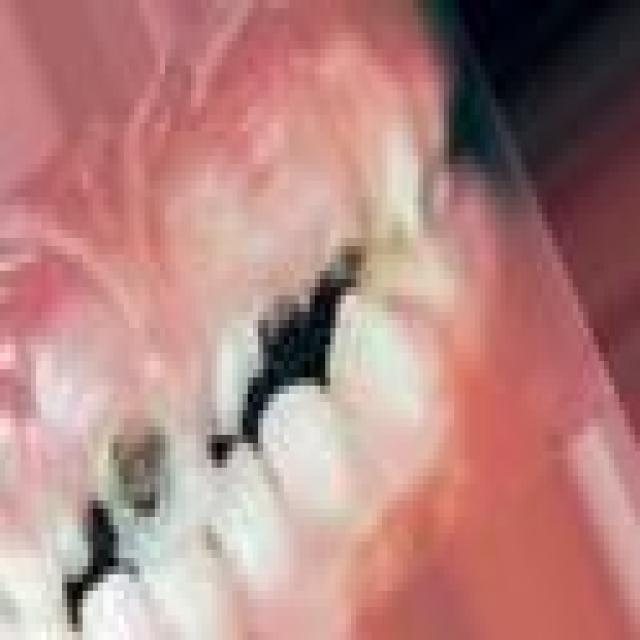caries: (90, 403, 223, 575)
